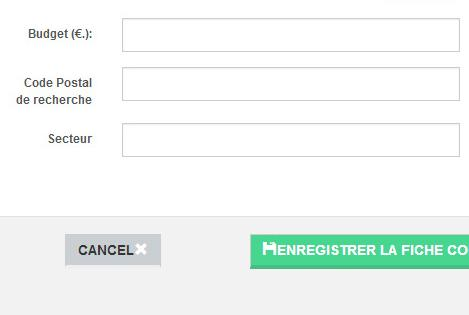button: (61, 231, 163, 267)
field: (120, 15, 461, 53), (120, 66, 462, 103), (121, 120, 462, 156)
field_with_label: (27, 12, 464, 56), (17, 64, 464, 106), (47, 117, 466, 160)
